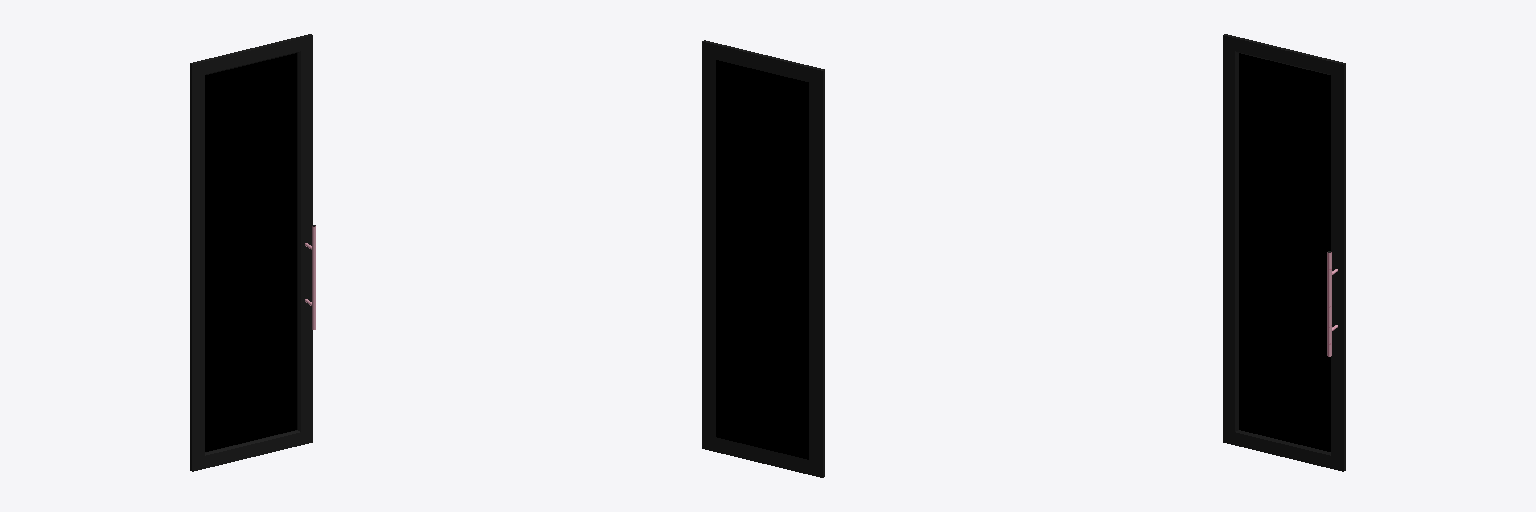
The picture shows the model from 3 angles: view 1: azimuth 30°, elevation 25°; view 2: azimuth 150°, elevation 25°; view 3: azimuth 330°, elevation 25°; orthographic projection.
Parts seen in each view (by area): view 1: Mesh1 Group1 Component_62_1 Model, Mesh5 Component_62_1 Model; view 2: Mesh1 Group1 Component_62_1 Model, Mesh5 Component_62_1 Model; view 3: Mesh1 Group1 Component_62_1 Model, Mesh5 Component_62_1 Model, Mesh4 Group4 Component_65_1 Component_62_1 Model.
Part boxes in pixels (bbox=[...]): Mesh1 Group1 Component_62_1 Model: bbox=[205, 53, 296, 451]; Mesh5 Component_62_1 Model: bbox=[190, 34, 312, 471]; Mesh1 Group1 Component_62_1 Model: bbox=[716, 60, 808, 459]; Mesh5 Component_62_1 Model: bbox=[702, 40, 824, 477]; Mesh1 Group1 Component_62_1 Model: bbox=[1239, 53, 1330, 451]; Mesh5 Component_62_1 Model: bbox=[1223, 34, 1345, 471]; Mesh4 Group4 Component_65_1 Component_62_1 Model: bbox=[1327, 251, 1331, 356].
Bounding box in the file's own units: 34 × 109 × 5.22.
3 materials, 1 textured.